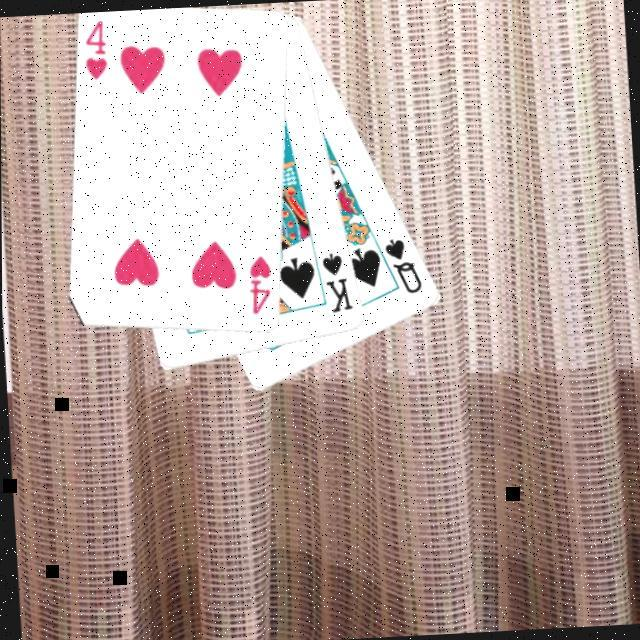4H: (242, 250, 275, 315), (78, 16, 110, 82)
KS: (316, 247, 354, 316)
QS: (378, 233, 423, 297)
